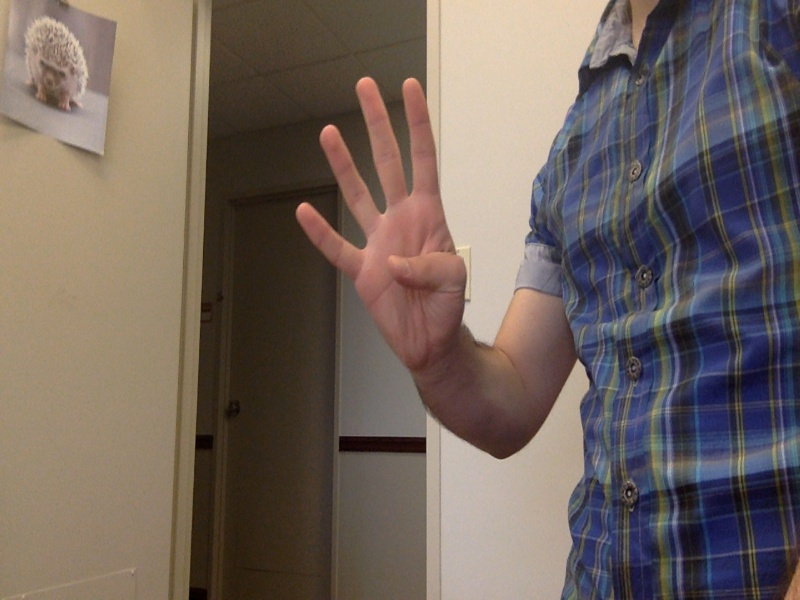4-hand: (292, 74, 471, 370)
